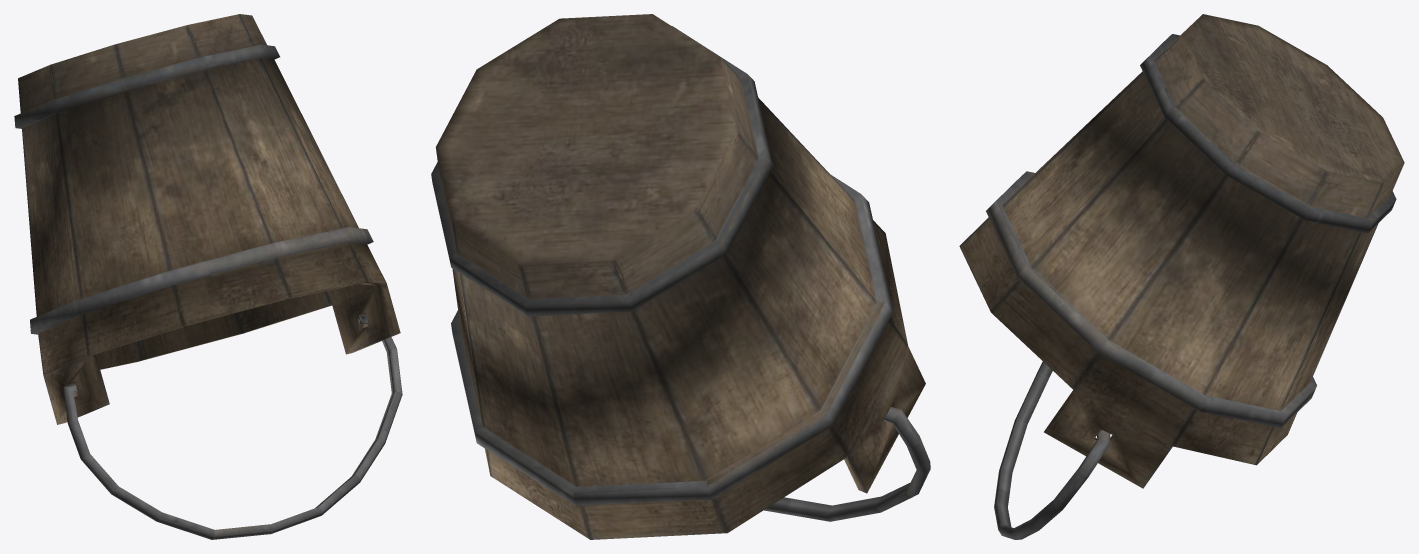
Rendered from head.glb.
3 renders of one model, left to right at view 1: azimuth 30°, elevation 25°; view 2: azimuth 150°, elevation 25°; view 3: azimuth 270°, elevation 25°, orthographic. The views are drawn at different scales.
Visible parts, largest first — view 1: NurbsPath.001; view 2: NurbsPath.001; view 3: NurbsPath.001.
Boxes of the visible parts, x1=… form: NurbsPath.001: x1=14, y1=14, x2=402, y2=539; NurbsPath.001: x1=431, y1=14, x2=930, y2=539; NurbsPath.001: x1=959, y1=14, x2=1404, y2=539.
Size of the model in its own units: 0.2951 by 0.3834 by 0.323.
Materials: 1 (1 with a texture image).
